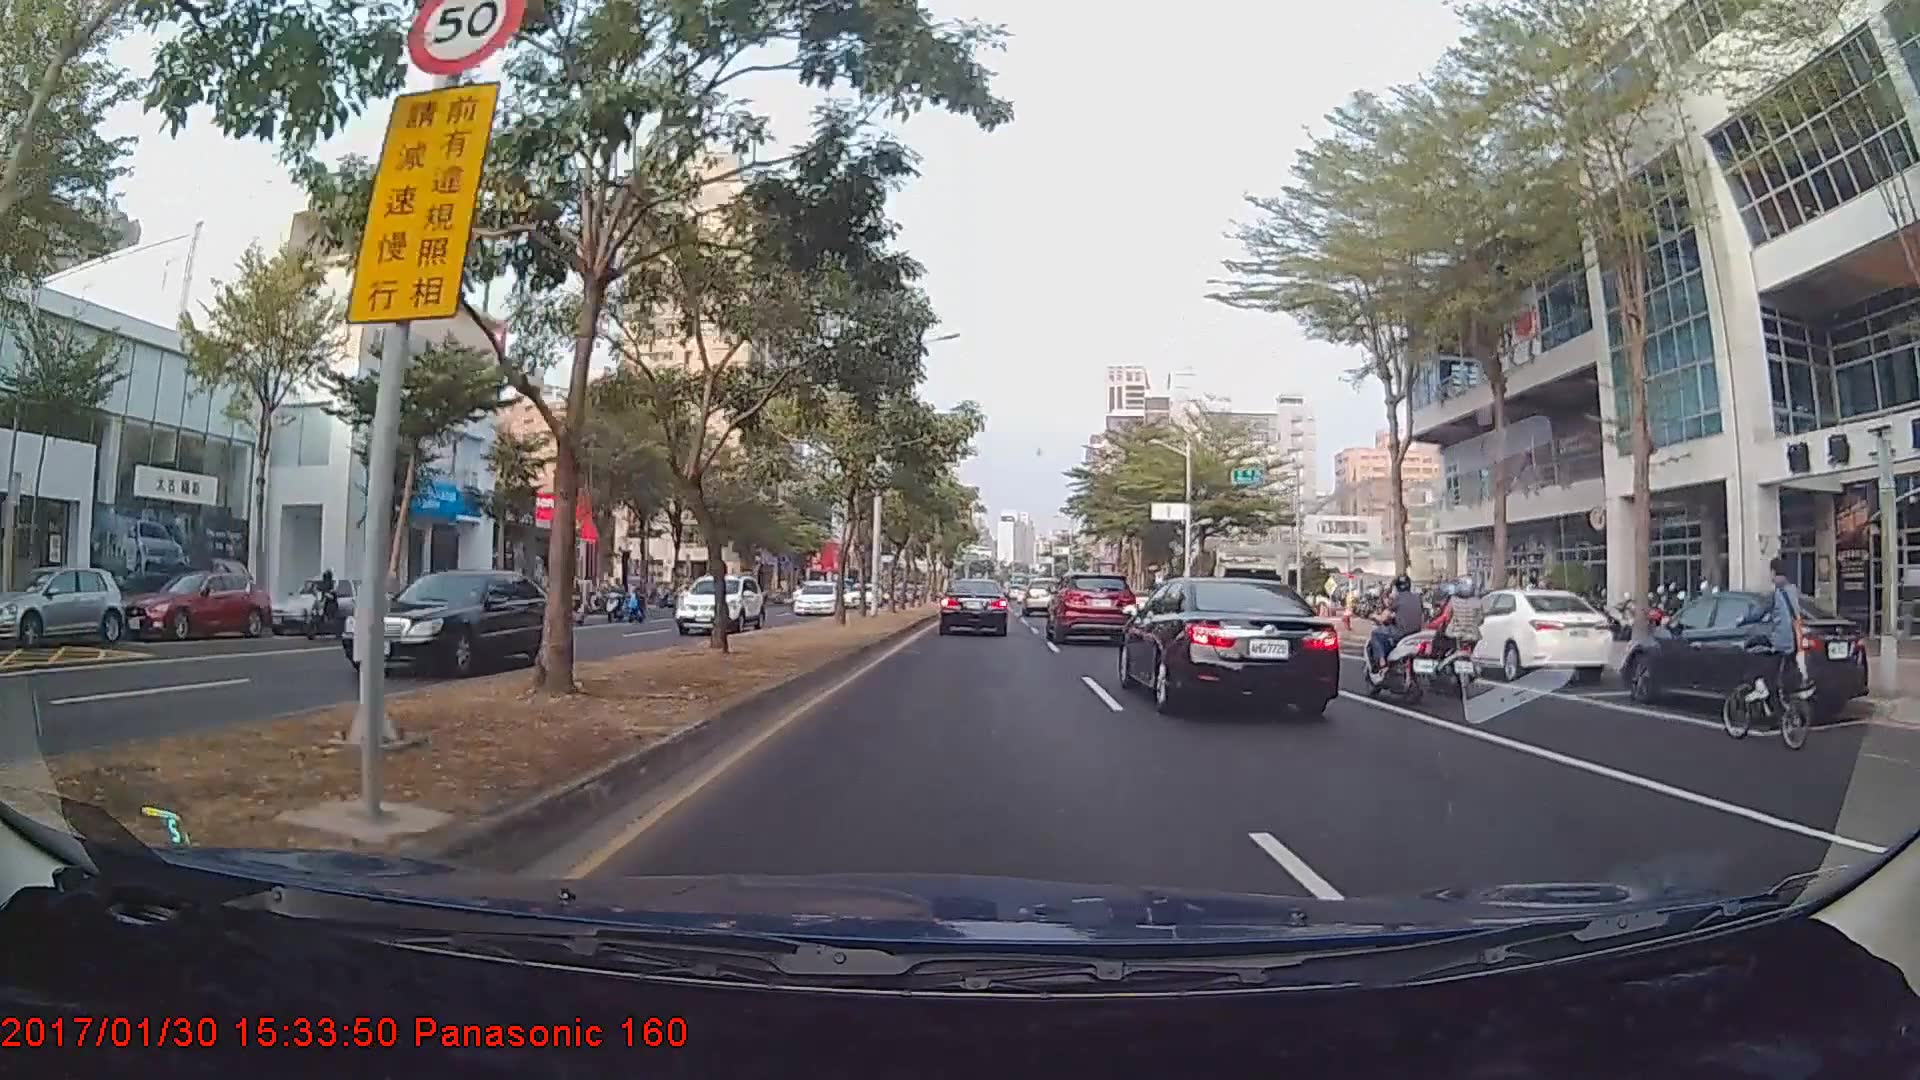rider: (1711, 566, 1836, 759), (1365, 572, 1452, 714), (1429, 578, 1492, 694), (298, 572, 354, 642)
vehicle: (1626, 586, 1870, 728), (1123, 569, 1339, 719), (339, 567, 568, 682), (1452, 586, 1610, 683), (108, 572, 273, 645), (0, 566, 125, 646), (273, 575, 397, 636), (1048, 569, 1134, 645), (674, 573, 767, 638), (938, 577, 1009, 637), (790, 579, 840, 617), (1022, 578, 1056, 615)
